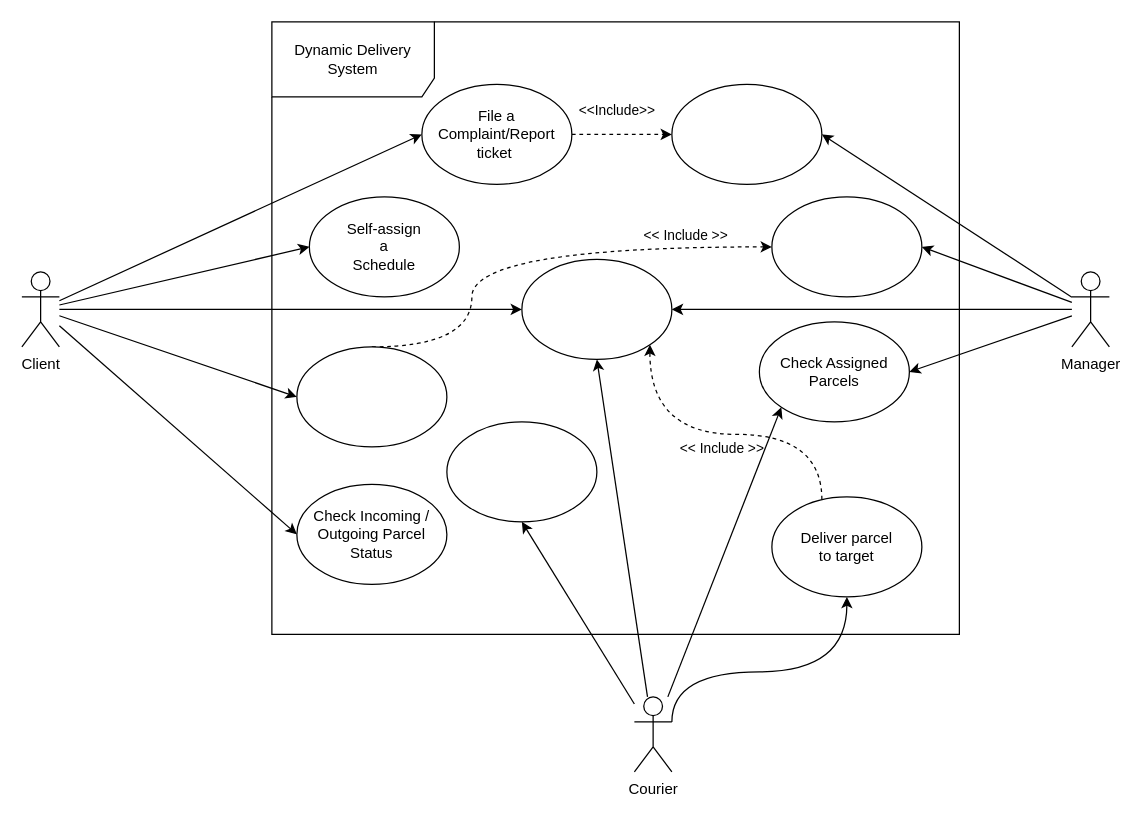
This 1141x820 diagram has some shape labels left out. The box of each missing label's shape, as (x1, y1, x2, y2) in pixels:
Add a parcel (Place delivery command): (296, 346, 447, 447)
Assign a parcel to courier: (771, 196, 922, 297)
Get Nearest Available Destination: (446, 421, 597, 522)
Recieve a parcel (Confirm delivery step execution): (521, 258, 672, 359)
Solve a Complaint / Report ticket: (671, 83, 822, 184)
